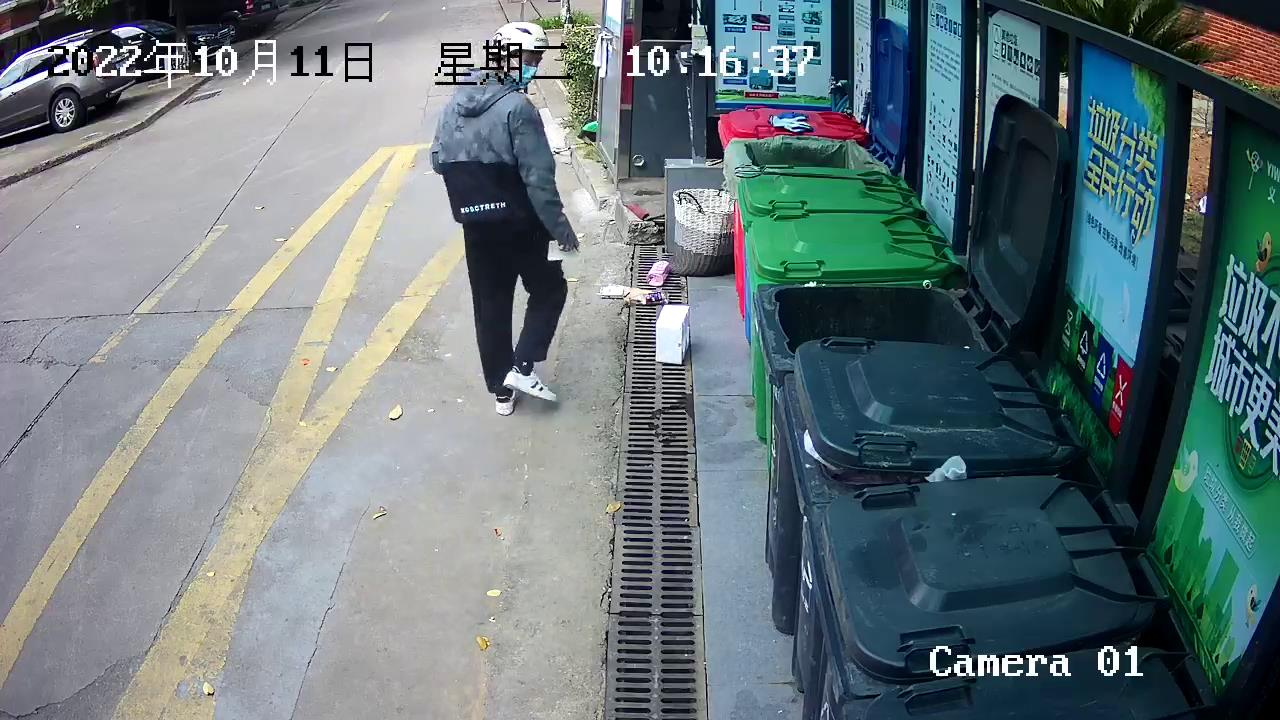person: (425, 18, 587, 423)
suliaozhipin: (642, 256, 674, 290)
zhizhipin: (652, 299, 695, 367)
